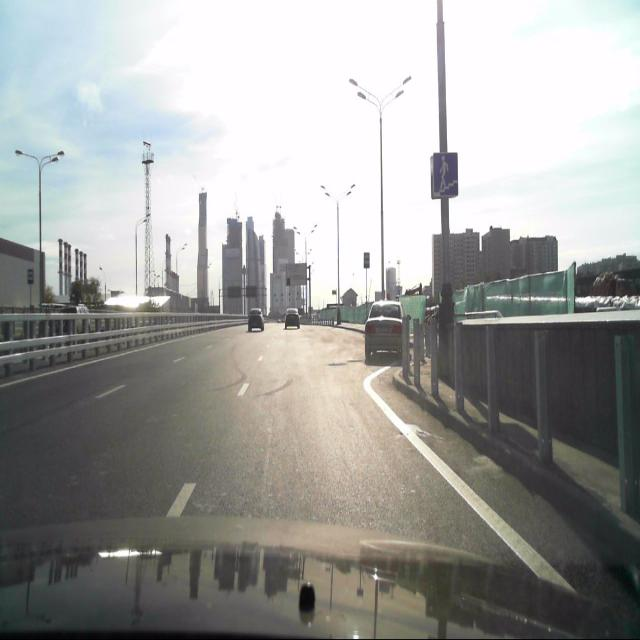road sign: (432, 151, 458, 198)
